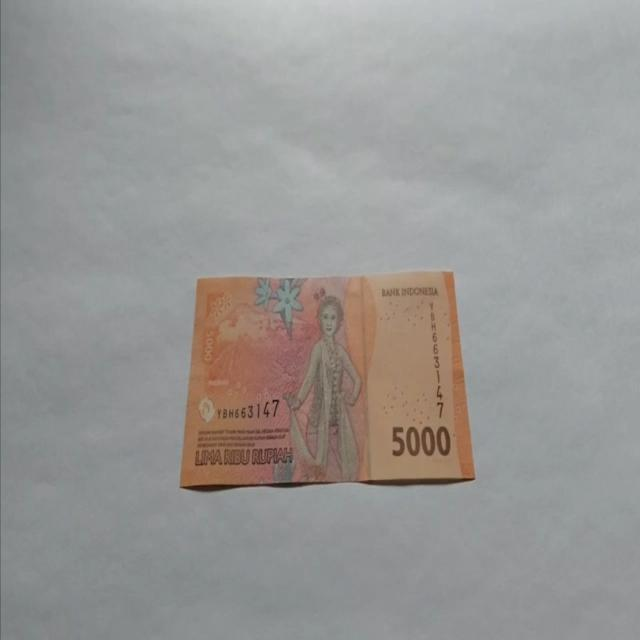lima ribu rupiah: (179, 270, 475, 490), (282, 294, 363, 483)
